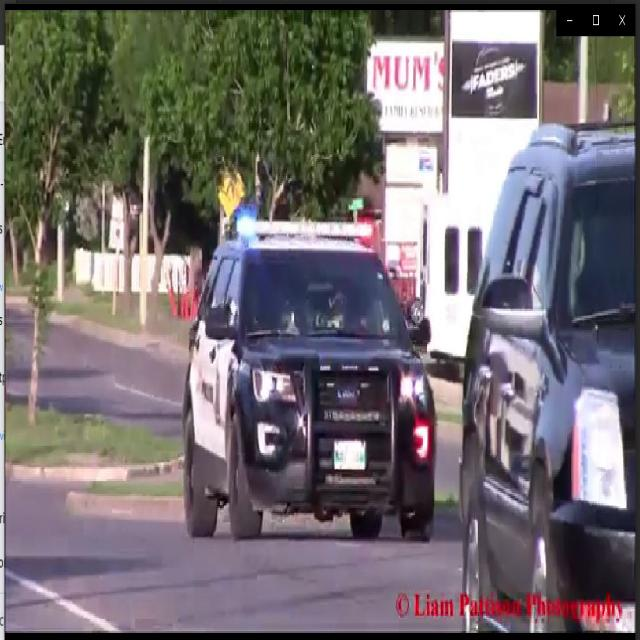emergency: (180, 192, 436, 552)
